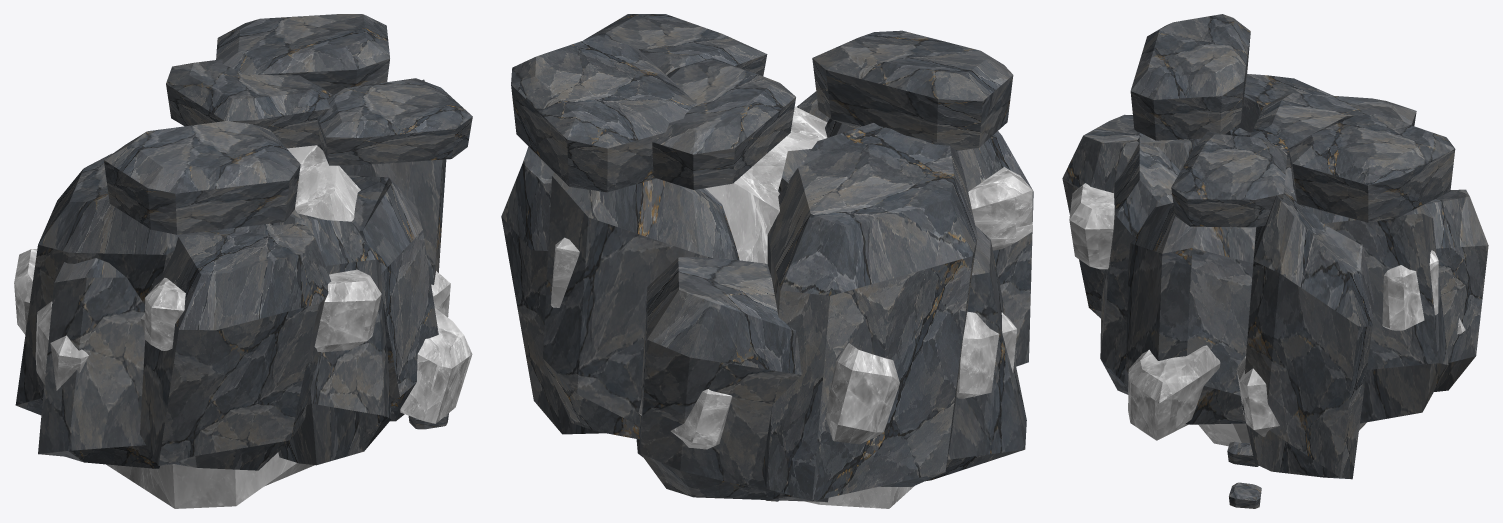
The model's file is Ore_B4.fbx.
3 renders of one model, left to right at view 1: azimuth 30°, elevation 25°; view 2: azimuth 150°, elevation 25°; view 3: azimuth 270°, elevation 25°, orthographic. The views are drawn at different scales.
Parts seen in each view (by area): view 1: Ore_B4_LOD0; view 2: Ore_B4_LOD0; view 3: Ore_B4_LOD0.
Part boxes in pixels (bbox=[...]): Ore_B4_LOD0: bbox=[14, 14, 472, 508]; Ore_B4_LOD0: bbox=[501, 14, 1033, 508]; Ore_B4_LOD0: bbox=[1062, 14, 1488, 508].
Size of what is drawn, in the model's own units: 1.75 by 1.46 by 1.62.
2 materials, 2 textured.
